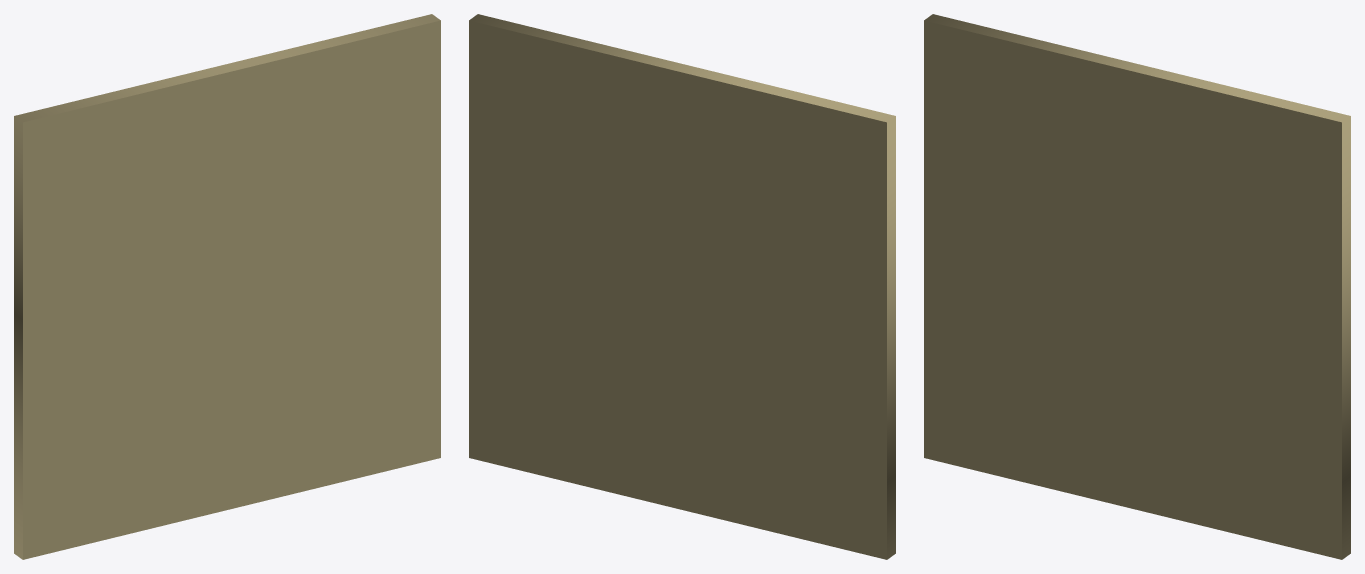
Rendered from Retro Wall.fbx.
3 renders of one model, left to right at view 1: azimuth 30°, elevation 25°; view 2: azimuth 150°, elevation 25°; view 3: azimuth 330°, elevation 25°, orthographic.
Visible parts, largest first — view 1: retro_wall_flat; view 2: retro_wall_flat; view 3: retro_wall_flat.
Part boxes in pixels (bbox=[...]): retro_wall_flat: bbox=[14, 14, 440, 559]; retro_wall_flat: bbox=[469, 14, 895, 559]; retro_wall_flat: bbox=[924, 14, 1350, 559].
Bounding box in the file's own units: 300 × 300 × 10.97.
